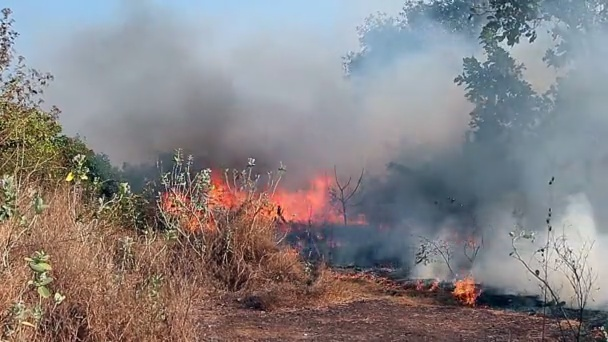fire: (454, 276, 478, 303), (271, 193, 294, 220), (210, 185, 232, 206), (66, 172, 72, 180), (81, 174, 88, 179)
